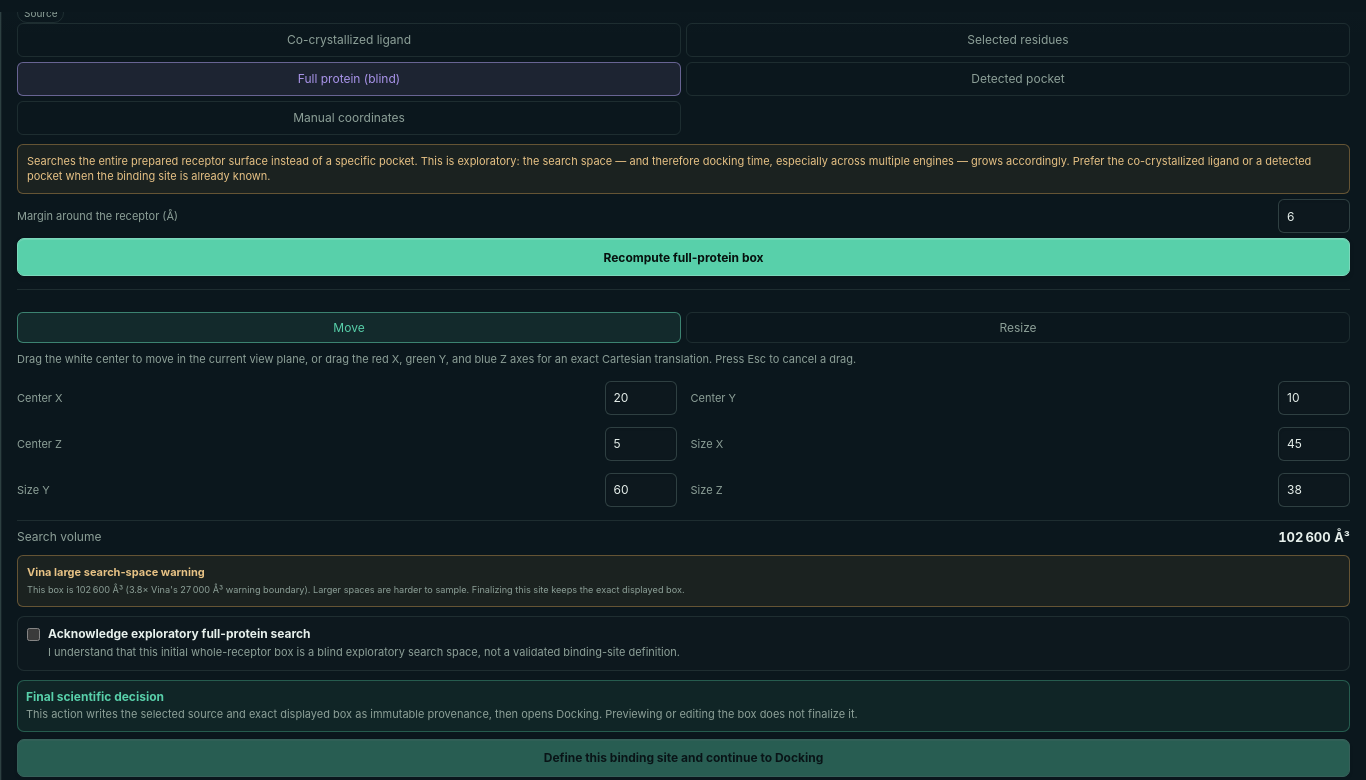
Scenario: keeps the editor visible and explains an unavailable P2Rank installation
(page scrolled)
Expected: the number field showing "45" is shown, [1278,427,1350,461]
Click the button "Resize" at x=1018, y=328, box [686,312,1350,344]
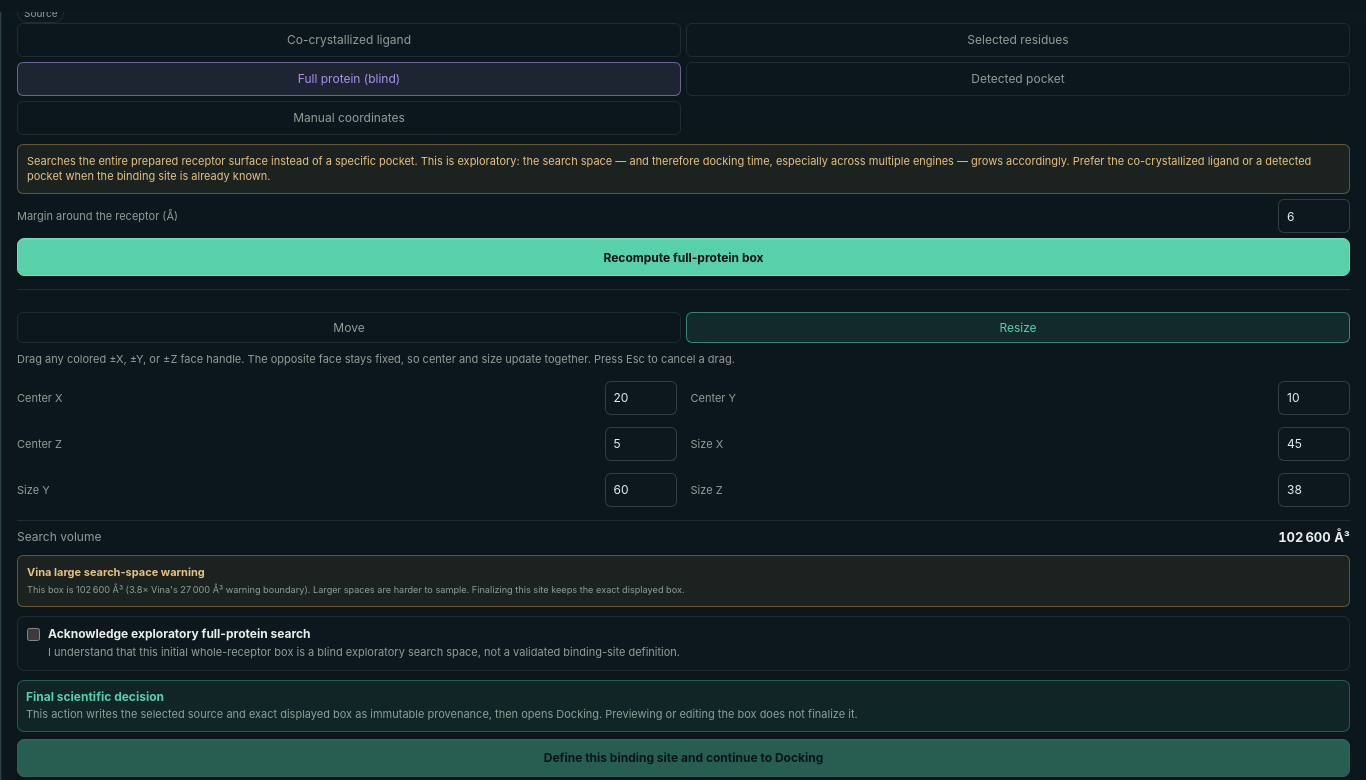
Expected: the text "opposite face stays fixed" is shown, [17,352,735,366]
Click the button "Detected pocket" at x=1018, y=79, box [686,62,1350,96]
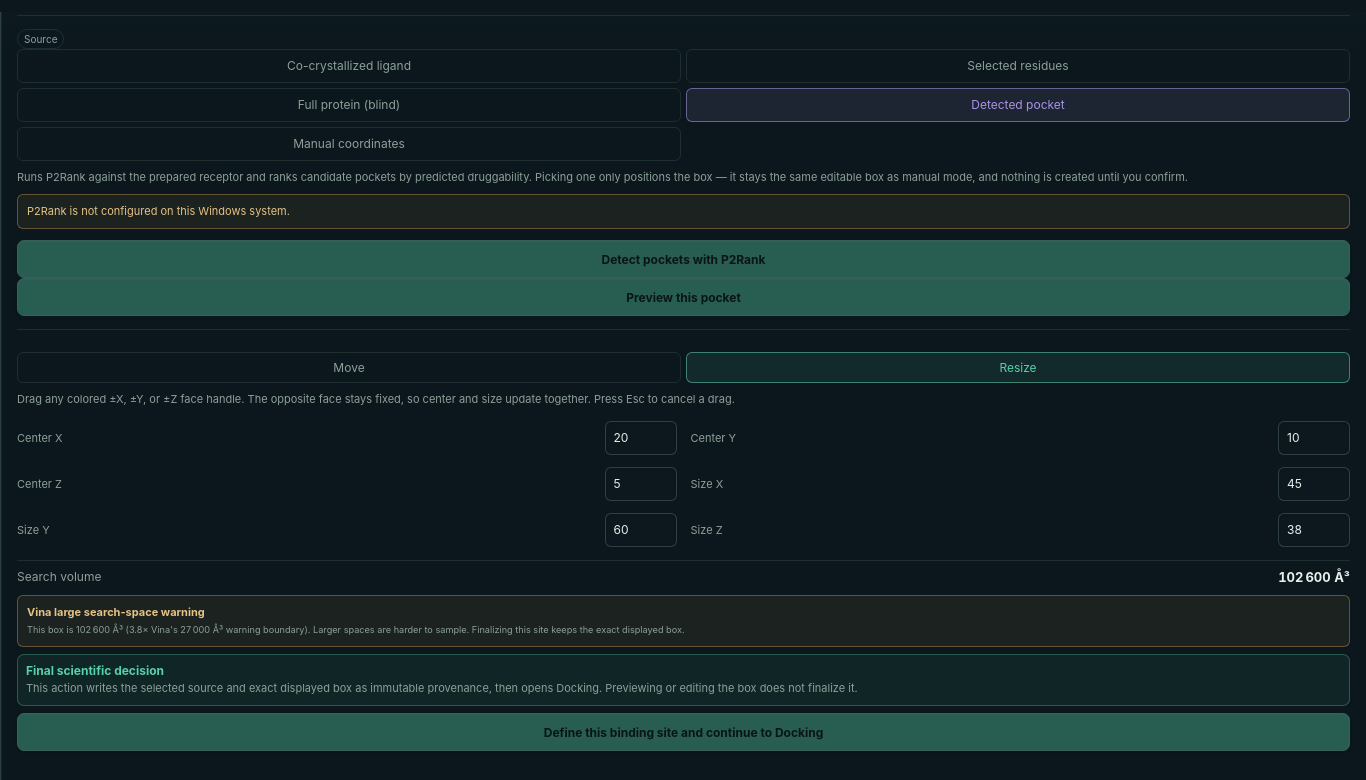
Expected: the text "P2Rank is not configured on this Windows system." is shown, [17,194,1350,230]
Expected: the button "Detect pockets with P2Rank" is disabled, [17,240,1350,278]
